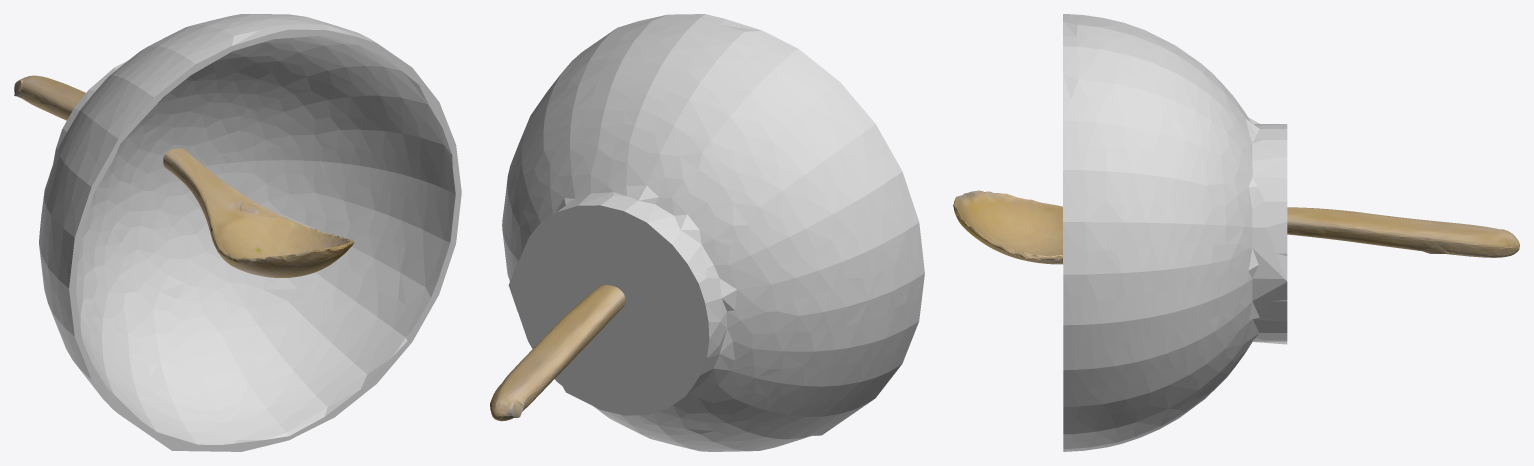
3 views of the same model, side by side, from view 1: azimuth 30°, elevation 25°; view 2: azimuth 150°, elevation 25°; view 3: azimuth 270°, elevation 25° (orthographic). The views are drawn at different scales.
Parts seen in each view (by area): view 1: world; view 2: world; view 3: world.
Part boxes in pixels (left/top/right/bottom): world: left=14, top=14, right=461, bottom=451; world: left=490, top=14, right=924, bottom=451; world: left=953, top=14, right=1519, bottom=451.
Size of the model in its own units: 0.1489 by 0.149 by 0.1935.
